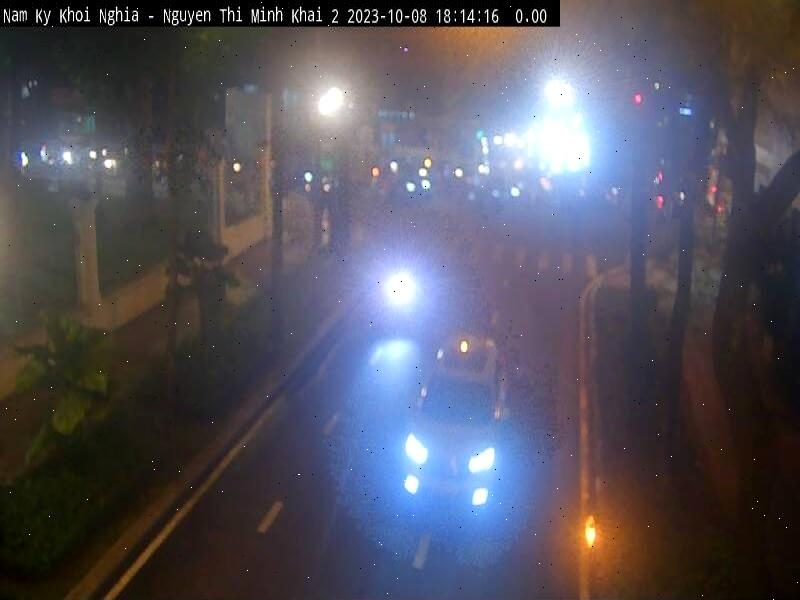car: (399, 330, 512, 514)
